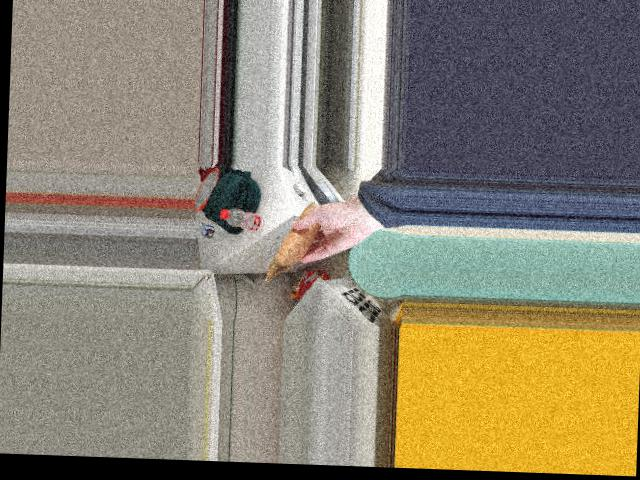sweet_potato: (279, 210, 317, 262)
